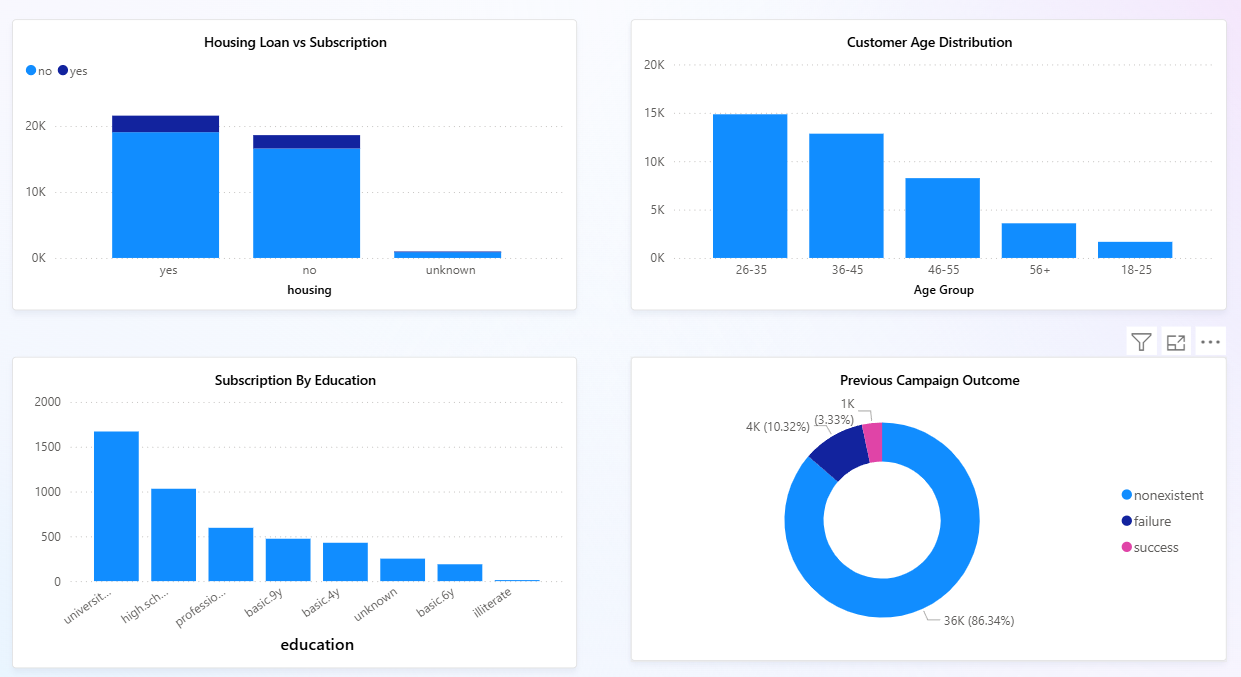

The dashboard page shown, as its layout file describes it:
{"tool":"powerbi","page":{"name":"Page 2","canvas":[1280,720],"ordinal":1},"visuals":[{"type":"donutChart","title":"Previous Campaign Outcome","fields":{"Category":["bankmarketing.poutcome"],"Y":["bankmarketing.Total Customers"]},"box":[639.5,404.8,583.2,297.8],"z":0},{"type":"clusteredColumnChart","title":"Subscription By Education","fields":{"Category":["bankmarketing.education"],"Y":["bankmarketing.Total Subscribers"]},"box":[34.2,404.8,552.7,304.5],"z":1000},{"type":"columnChart","title":"Customer Age Distribution","fields":{"Category":["bankmarketing.Age Group"],"Y":["bankmarketing.Total Customers"]},"box":[639.5,74.6,583.3,284.9],"z":2000},{"type":"columnChart","title":"Housing Loan vs Subscription","fields":{"Category":["bankmarketing.housing"],"Series":["bankmarketing.y"],"Y":["bankmarketing.Total Customers"]},"box":[34.2,74.6,552.7,284.9],"z":3000}]}

Visuals, with their boxes on the page's 1280x720 design canvas (x1, y1, x2, y2). These are canvas units, not pixel positions in the 1241x677 screenshot, which may show the page scaled, cropped or inside an application window:
"Previous Campaign Outcome" donutChart: <region>640, 405, 1223, 703</region>
"Subscription By Education" clusteredColumnChart: <region>34, 405, 587, 709</region>
"Customer Age Distribution" columnChart: <region>640, 75, 1223, 360</region>
"Housing Loan vs Subscription" columnChart: <region>34, 75, 587, 360</region>
